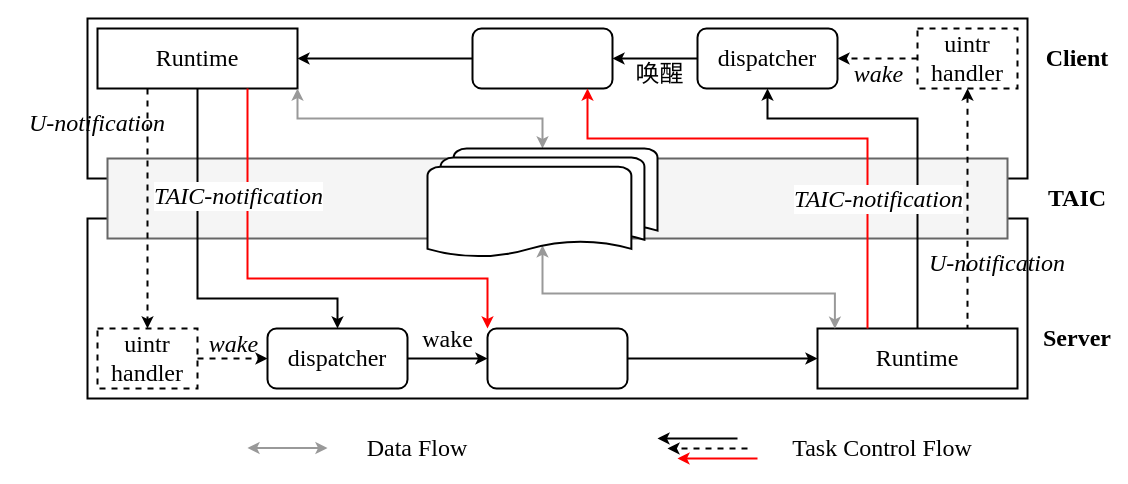
This 1128x484 diagram has some shape labels left out. The centre of each missing label's shape, as x and y in pixels:
"ipc_reply" belongs at point (557, 358).
"ShareBuffer" belongs at point (542, 203).
"worker ipc_call" belongs at point (542, 58).
